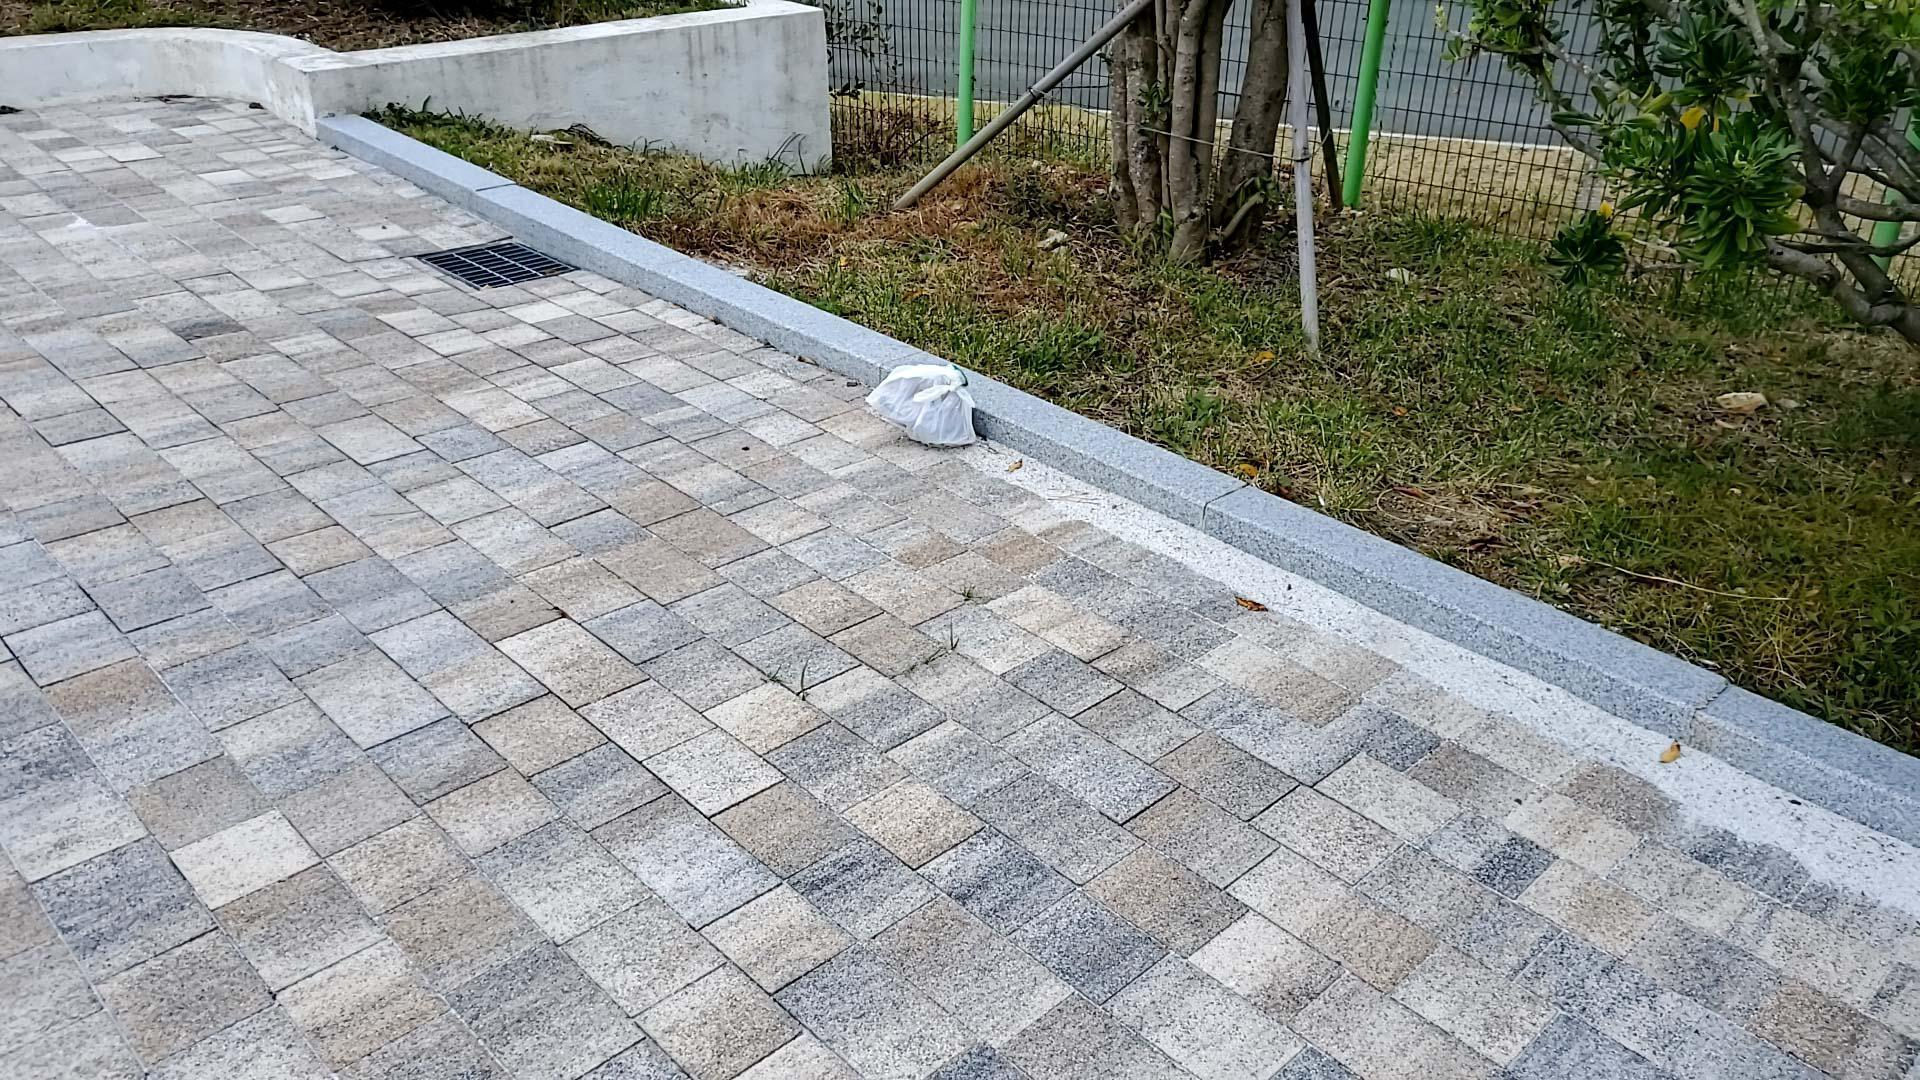white_bag: (848, 357, 980, 448)
